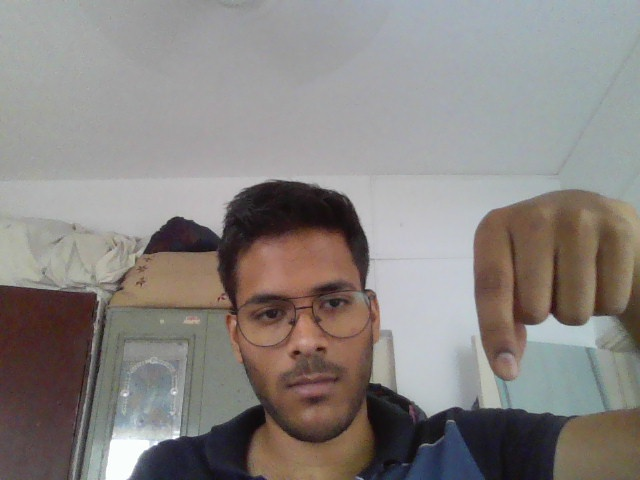yes: (452, 175, 640, 384)
